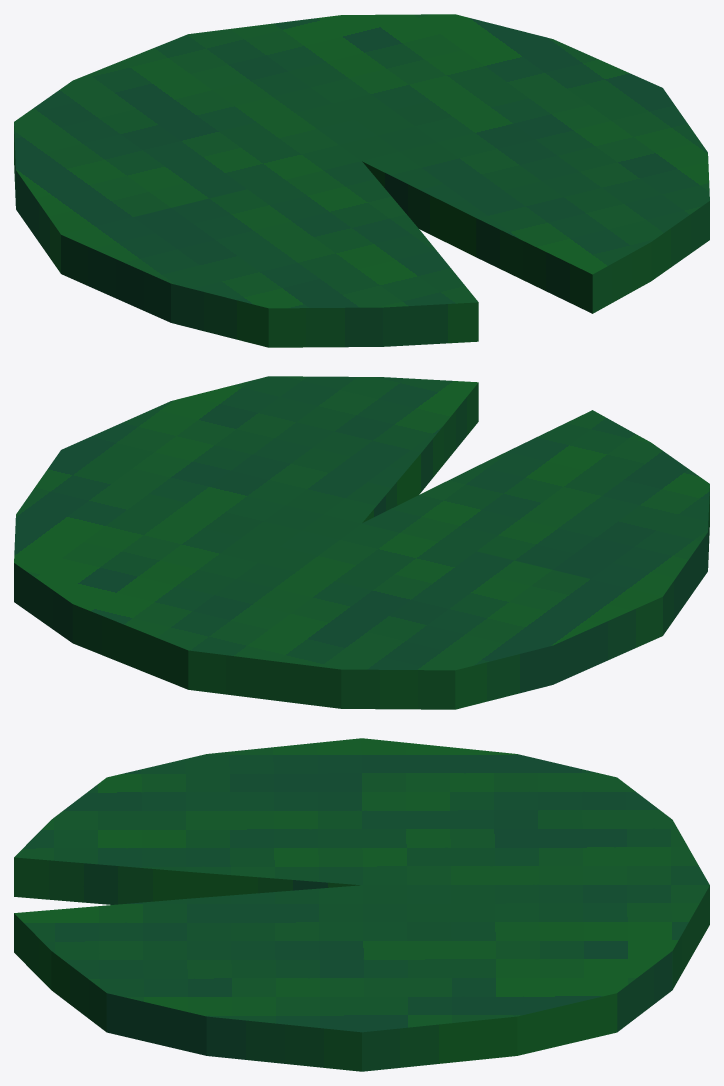
The model's file is lilypad.obj.
3 views of the same model, one above another, from view 1: azimuth 30°, elevation 25°; view 2: azimuth 150°, elevation 25°; view 3: azimuth 270°, elevation 25° (orthographic).
Visible parts, largest first — view 1: Lilypad_Cube; view 2: Lilypad_Cube; view 3: Lilypad_Cube.
Part boxes in pixels (x1,y1,x2,y2): Lilypad_Cube: (14,14,709,347); Lilypad_Cube: (14,376,709,709); Lilypad_Cube: (14,738,709,1071).
Bounding box in the file's own units: 2 × 0.125 × 2.
1 material, 1 textured.
